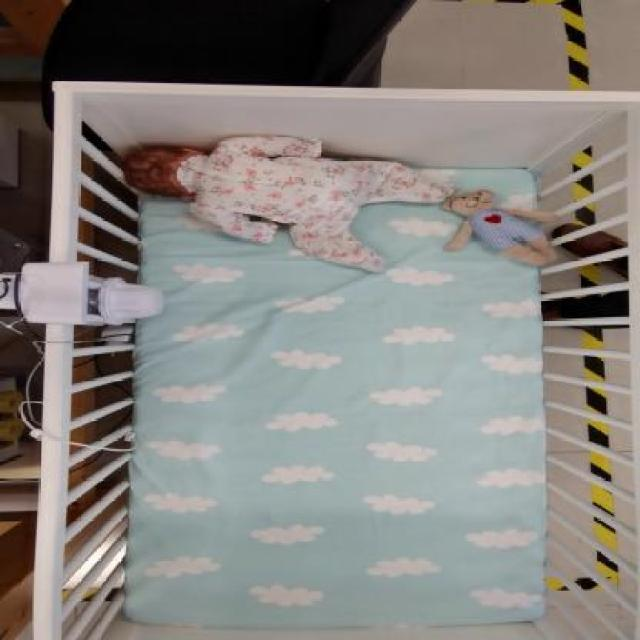baby: (118, 129, 460, 277)
